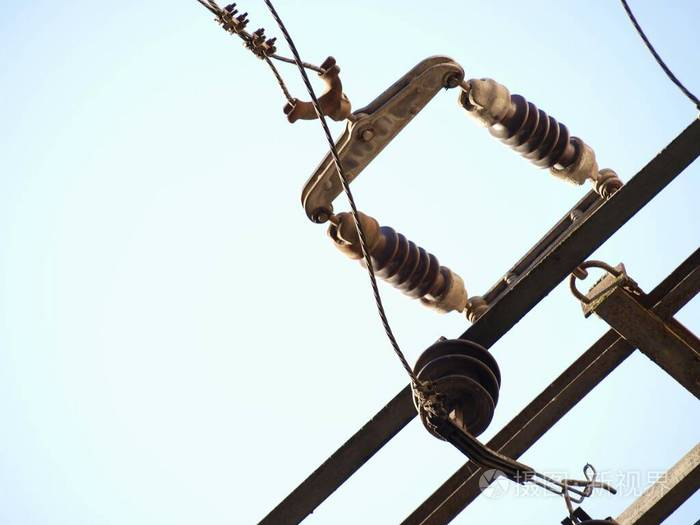insulator: (412, 343, 501, 434), (363, 223, 449, 304), (490, 96, 571, 165)
